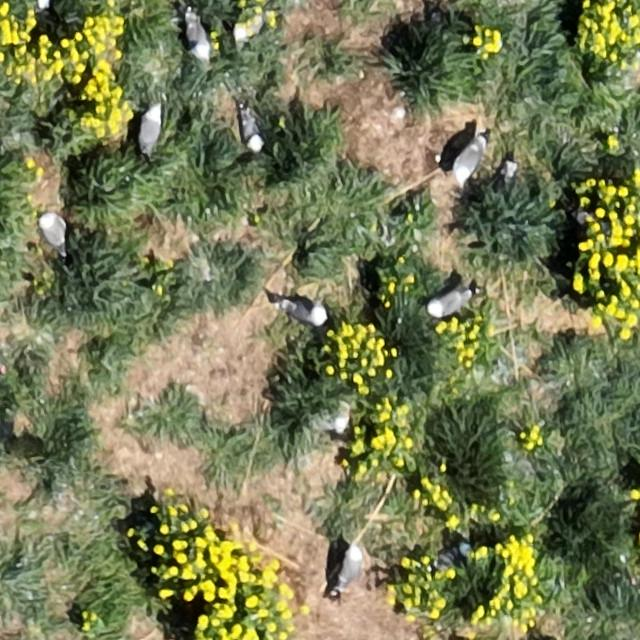umineko: (327, 398, 358, 438), (454, 139, 482, 180), (428, 290, 470, 317), (283, 301, 327, 325), (41, 212, 66, 252), (187, 14, 210, 57), (138, 108, 159, 152), (338, 550, 361, 590), (241, 111, 261, 151)
